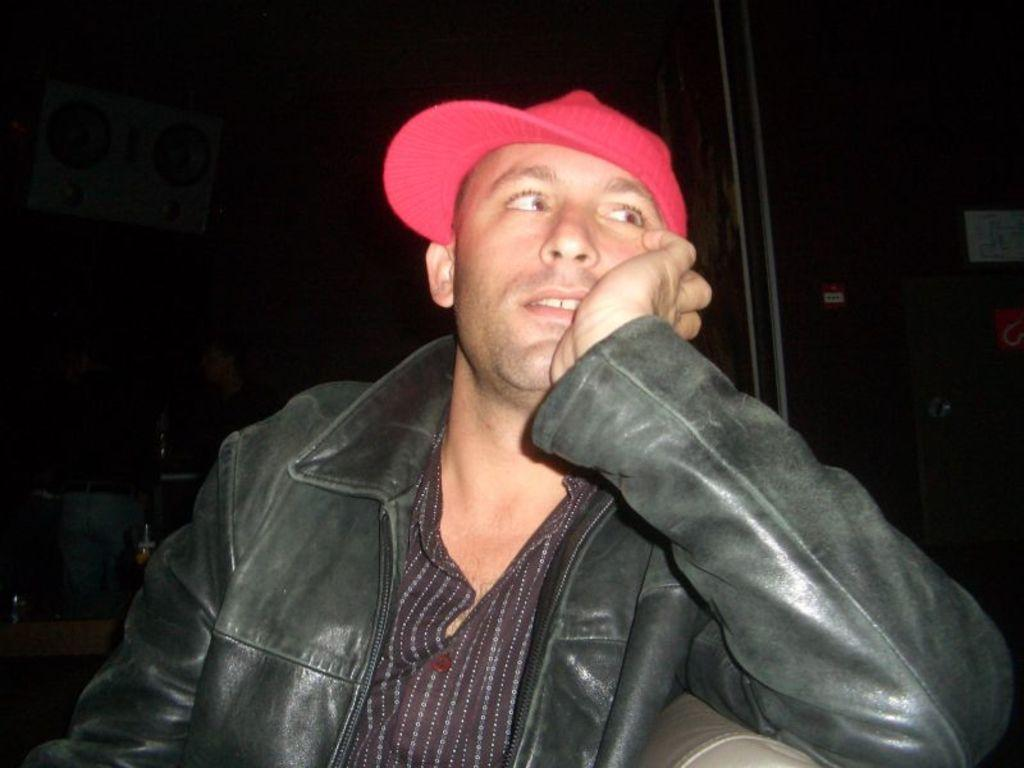Hat: (379, 88, 687, 244)
